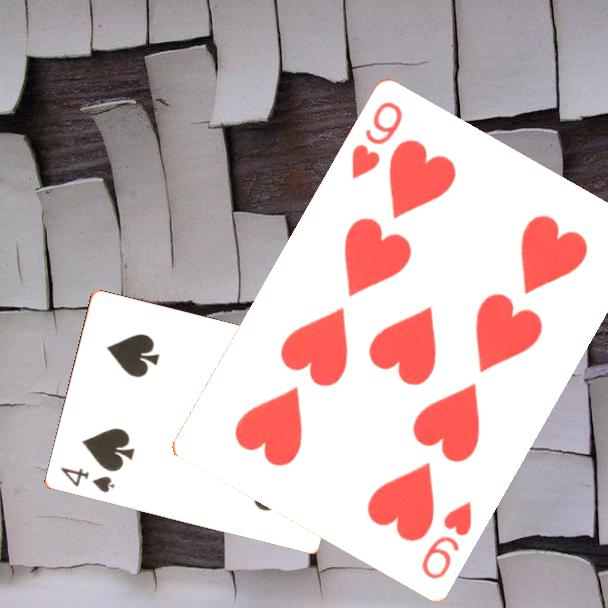h09: (347, 98, 406, 183), (418, 497, 475, 583)
s04: (57, 464, 117, 496)
